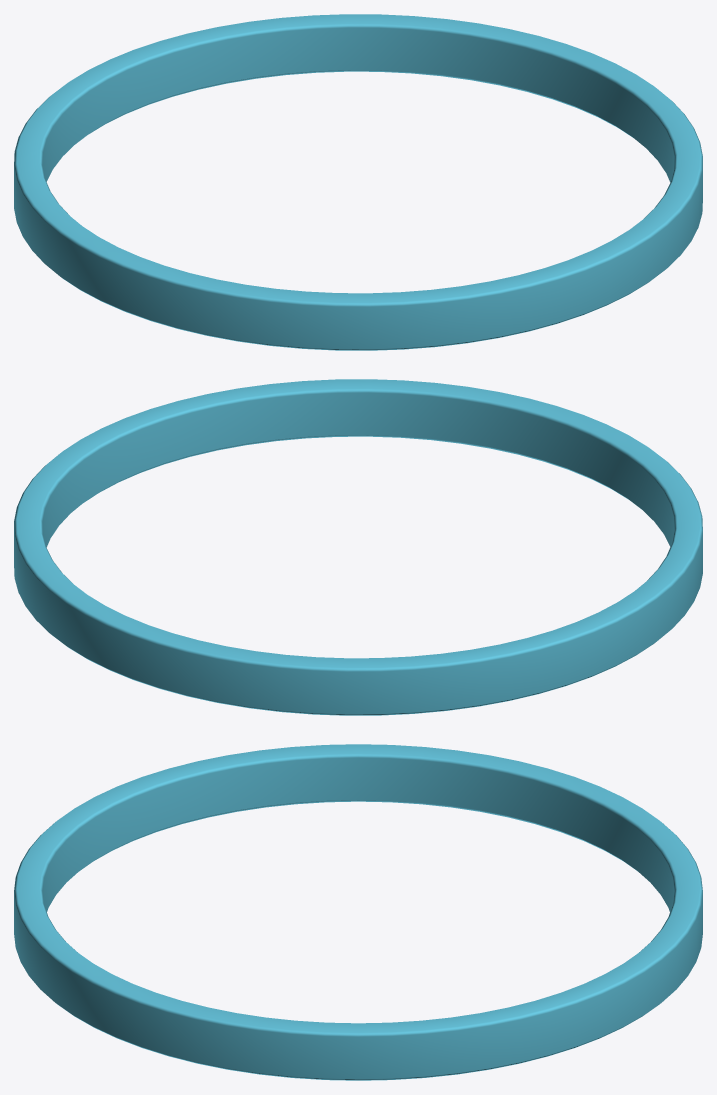
The picture shows the model from 3 angles, top to bottom: view 1: azimuth 30°, elevation 25°; view 2: azimuth 150°, elevation 25°; view 3: azimuth 270°, elevation 25°; orthographic projection.
Parts seen in each view (by area): view 1: seal_body; view 2: seal_body; view 3: seal_body.
Part boxes in pixels (bbox=[...]): seal_body: bbox=[14, 14, 702, 350]; seal_body: bbox=[14, 379, 702, 715]; seal_body: bbox=[14, 744, 702, 1080].
Bounding box in the file's own units: 0.13 × 0.01 × 0.13.
